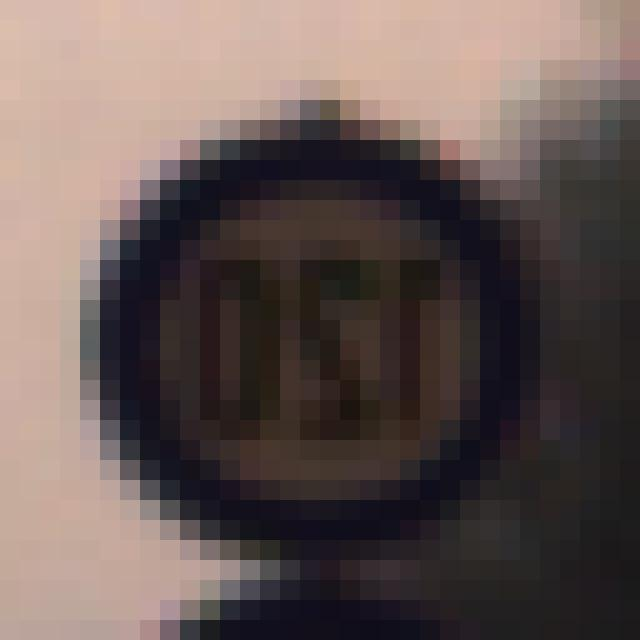SPEED LIMIT 120: (80, 121, 536, 547)
